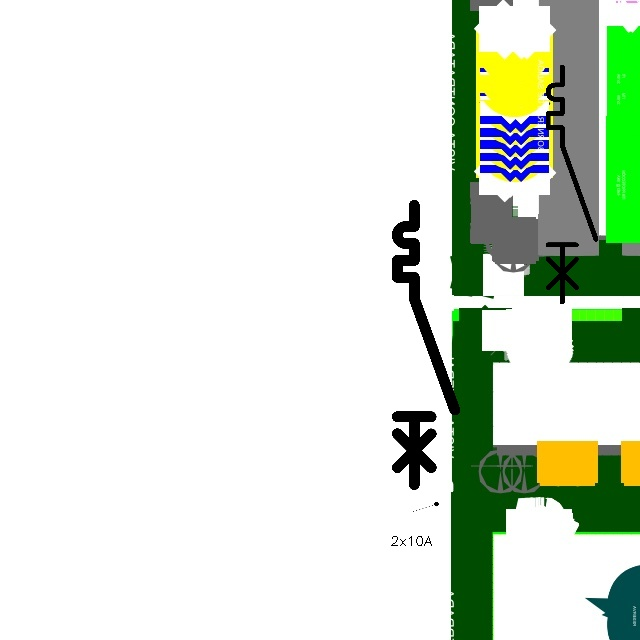interruptor_termomagnetico: (390, 198, 462, 492), (542, 61, 602, 308)
